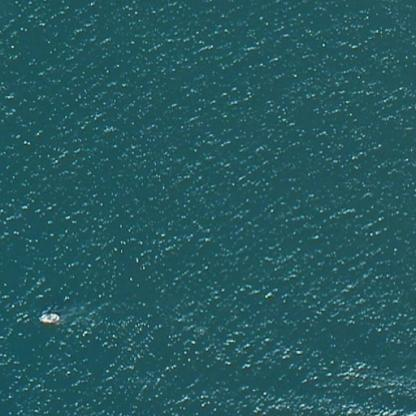ship: (36, 307, 64, 326)
